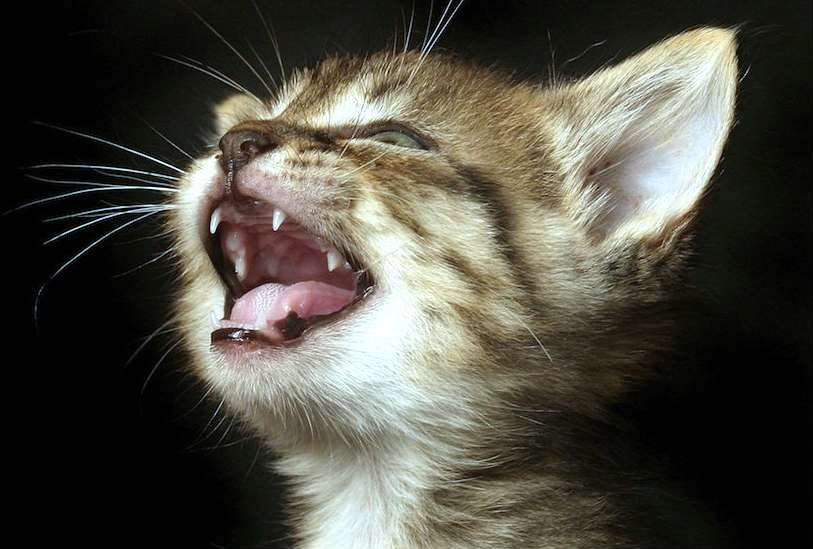Gato: (129, 26, 769, 475)
